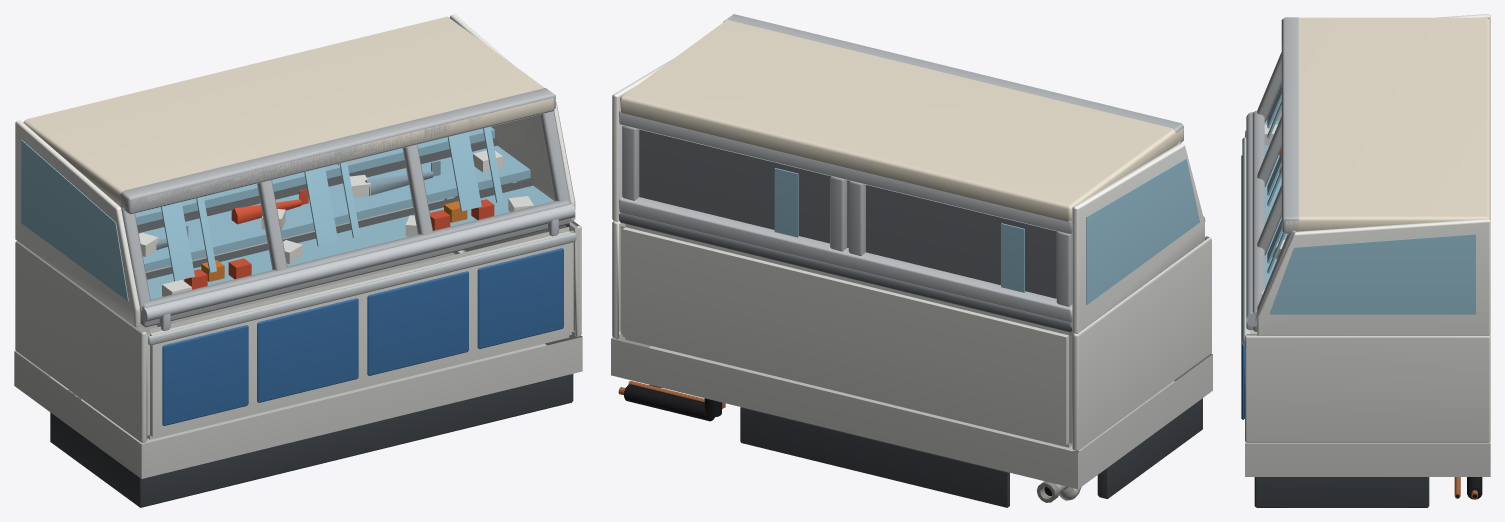
Rendered from ServiceCase_Seafood_20.glb.
3 views of the same model, side by side, from view 1: azimuth 30°, elevation 25°; view 2: azimuth 150°, elevation 25°; view 3: azimuth 270°, elevation 25° (orthographic). The views are drawn at different scales.
Visible parts, largest first — view 1: SM_ServiceCase_Seafood_20; view 2: SM_ServiceCase_Seafood_20; view 3: SM_ServiceCase_Seafood_20.
Part boxes in pixels (x1,y1,x2,y2): SM_ServiceCase_Seafood_20: (14,14,582,507); SM_ServiceCase_Seafood_20: (611,14,1212,507); SM_ServiceCase_Seafood_20: (1241,14,1490,507).
Size of the model in its own units: 2.01 by 1.3 by 1.01.
1 material, 1 textured.
